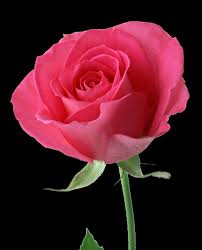flower: (10, 17, 202, 178)
